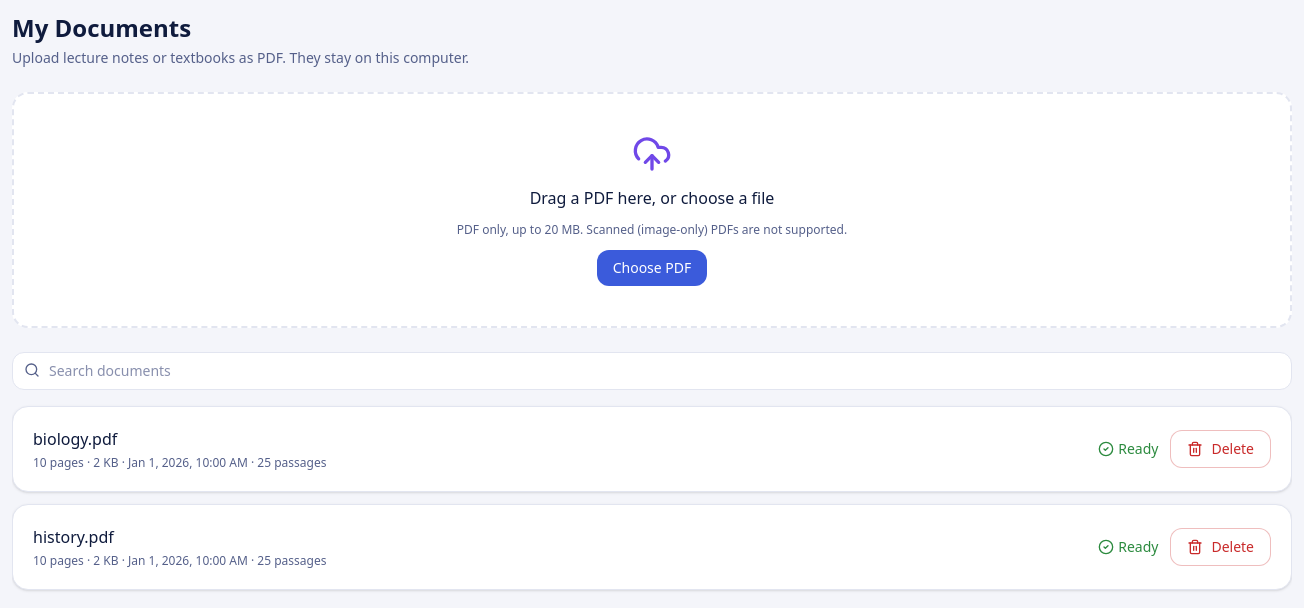
Test: documents are listed and can be searched
The image size is (1304, 608).
Expected: the text "biology.pdf" is shown, [33,428,117,450]
In the field labelled "Search documents": (652, 371) [12,352,1292,390], type "hist"
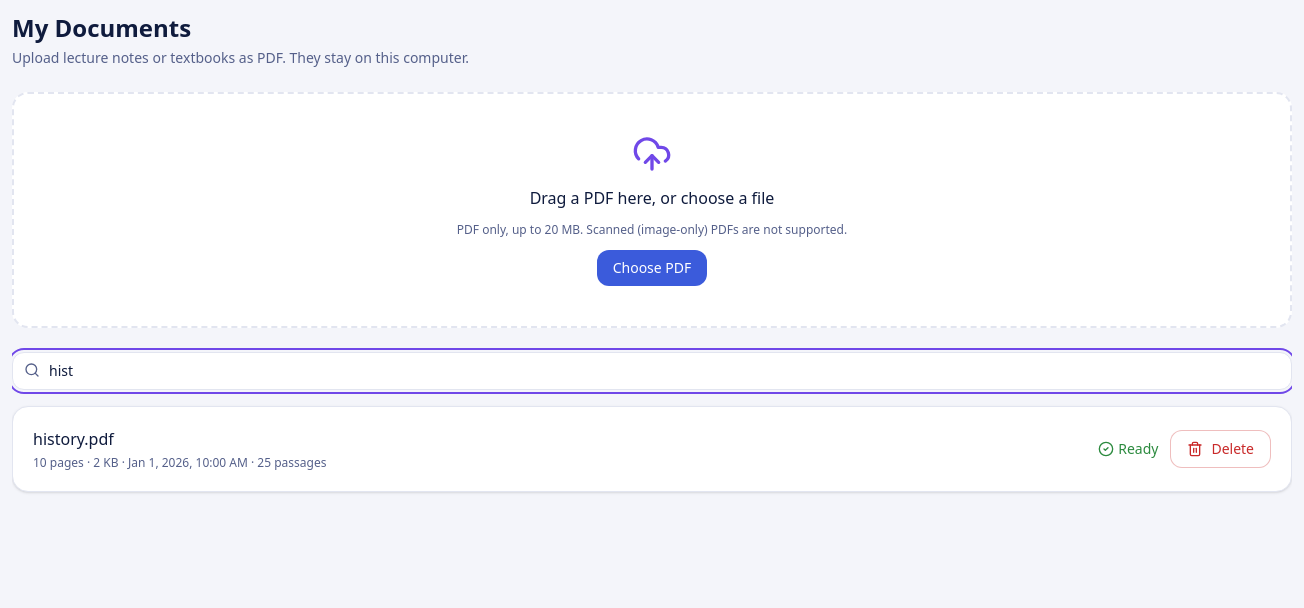
Expected: the text "history.pdf" is shown, [33,428,114,450]
Now the text "biology.pdf" is gone
